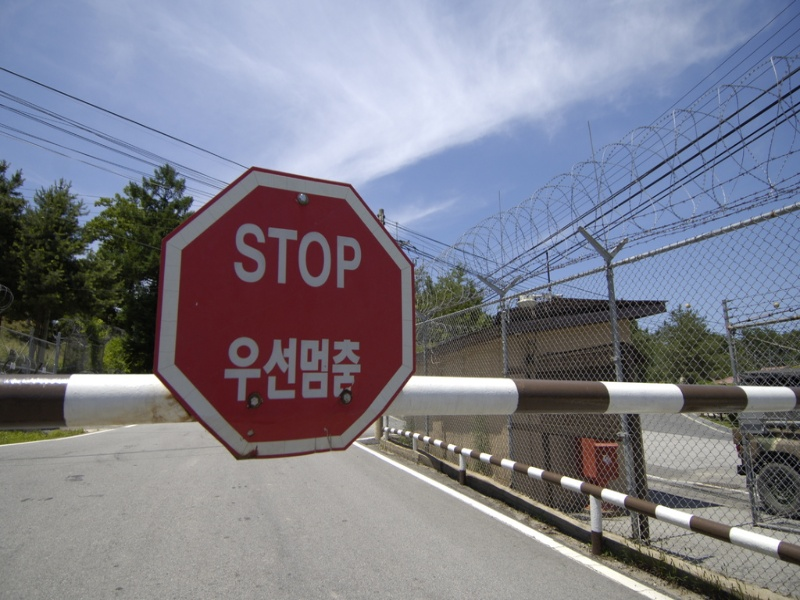stop: (147, 155, 417, 463)
